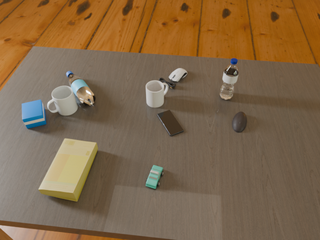book: (39, 139, 98, 201)
bottle: (66, 71, 96, 106), (219, 58, 239, 100)
box: (22, 100, 46, 128)
cup: (47, 86, 78, 116), (146, 81, 168, 107)
mouse: (232, 112, 247, 132), (169, 68, 187, 82)
phone: (157, 110, 184, 136)
toy_car: (146, 165, 163, 189)
